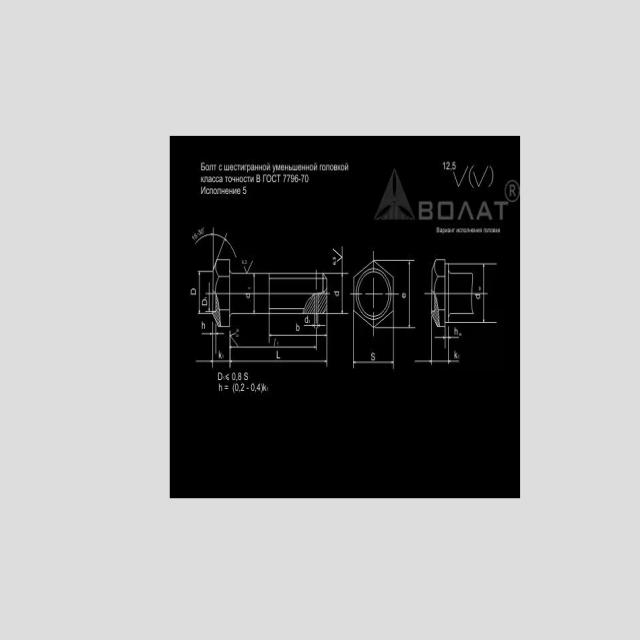marking_line: (196, 329, 329, 370), (228, 327, 329, 371), (228, 329, 330, 352), (268, 315, 329, 344), (351, 330, 395, 369), (414, 329, 461, 365), (395, 258, 415, 329), (475, 261, 497, 323), (328, 246, 347, 316), (195, 234, 238, 259), (196, 322, 217, 369), (328, 271, 348, 316), (473, 262, 497, 295), (475, 291, 497, 324), (197, 269, 212, 315), (435, 327, 461, 350), (303, 315, 329, 328), (205, 281, 212, 312)
numeric: (272, 337, 279, 346), (333, 290, 340, 298), (250, 382, 255, 392), (452, 160, 457, 170), (240, 383, 245, 392), (256, 383, 261, 392), (234, 383, 239, 391), (231, 372, 236, 380), (371, 351, 375, 361), (238, 372, 242, 381), (446, 161, 450, 170), (245, 294, 251, 299), (201, 227, 205, 234), (443, 161, 446, 170), (198, 229, 201, 236), (458, 332, 462, 337), (332, 261, 337, 265), (192, 235, 195, 241), (194, 234, 197, 240), (333, 256, 337, 260), (458, 353, 460, 359), (222, 354, 224, 359), (204, 296, 207, 299)
special_symbol: (505, 179, 520, 203), (453, 165, 468, 188), (473, 166, 489, 187), (243, 260, 254, 273), (468, 166, 474, 188), (231, 331, 239, 347), (488, 165, 494, 186), (333, 248, 341, 262), (225, 373, 230, 381), (260, 383, 263, 394), (242, 259, 248, 264), (225, 385, 230, 390), (233, 382, 235, 394), (246, 386, 250, 391)
